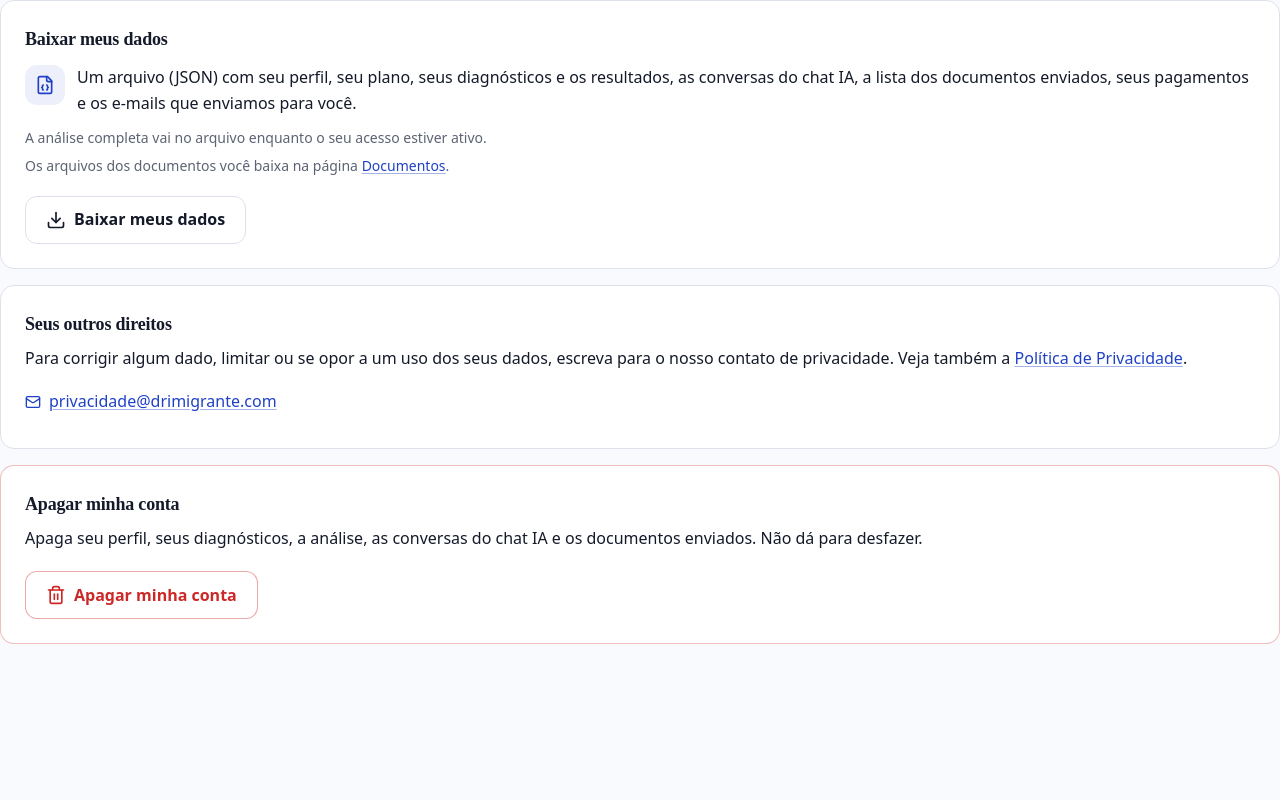
Test: PrivacyPanel — apagar a conta › erro do servidor aparece no sheet e nada de sair da conta
The width and height of the screenshot is (1280, 800).
Click the button with test id "privacy-delete-open" at (141,595), box 25,571 -> 258,619
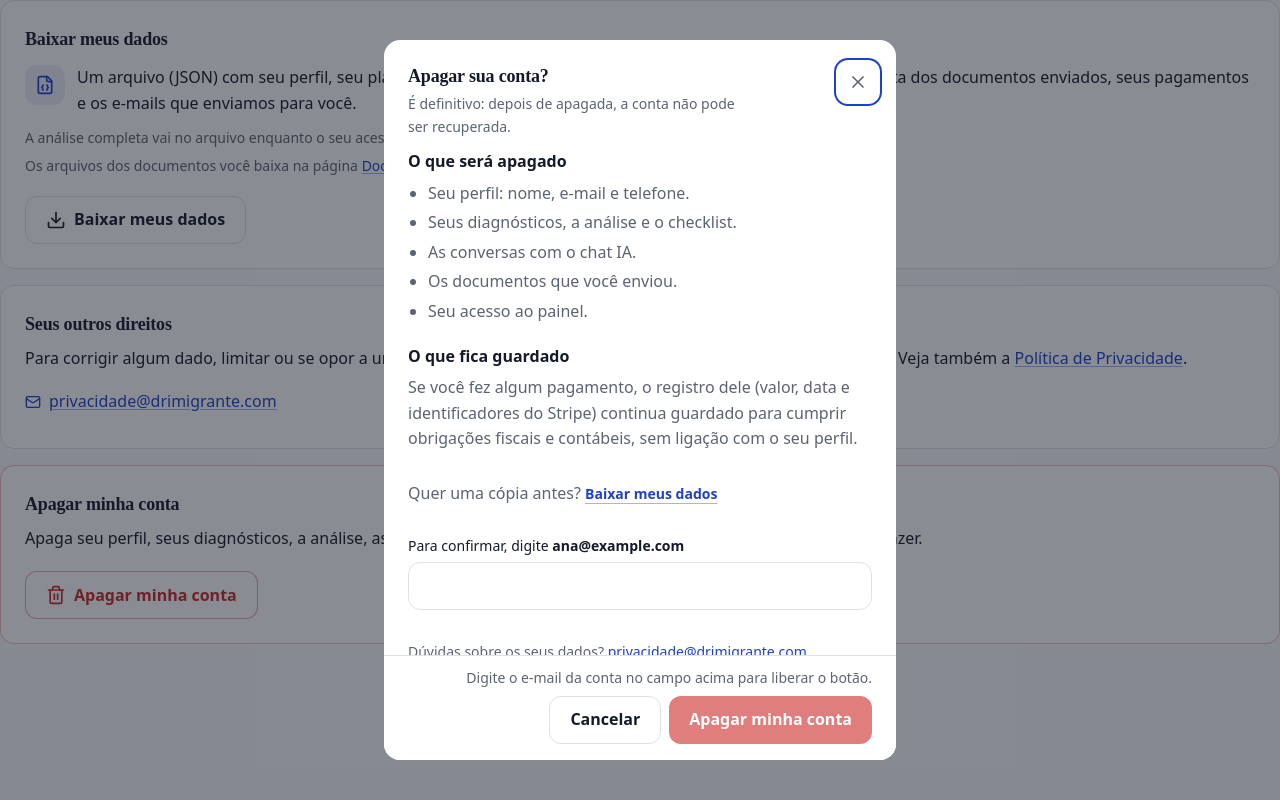
Type "ana@example.com" into the field with test id "delete-account-email" at (640,586), box 408,562 -> 872,610
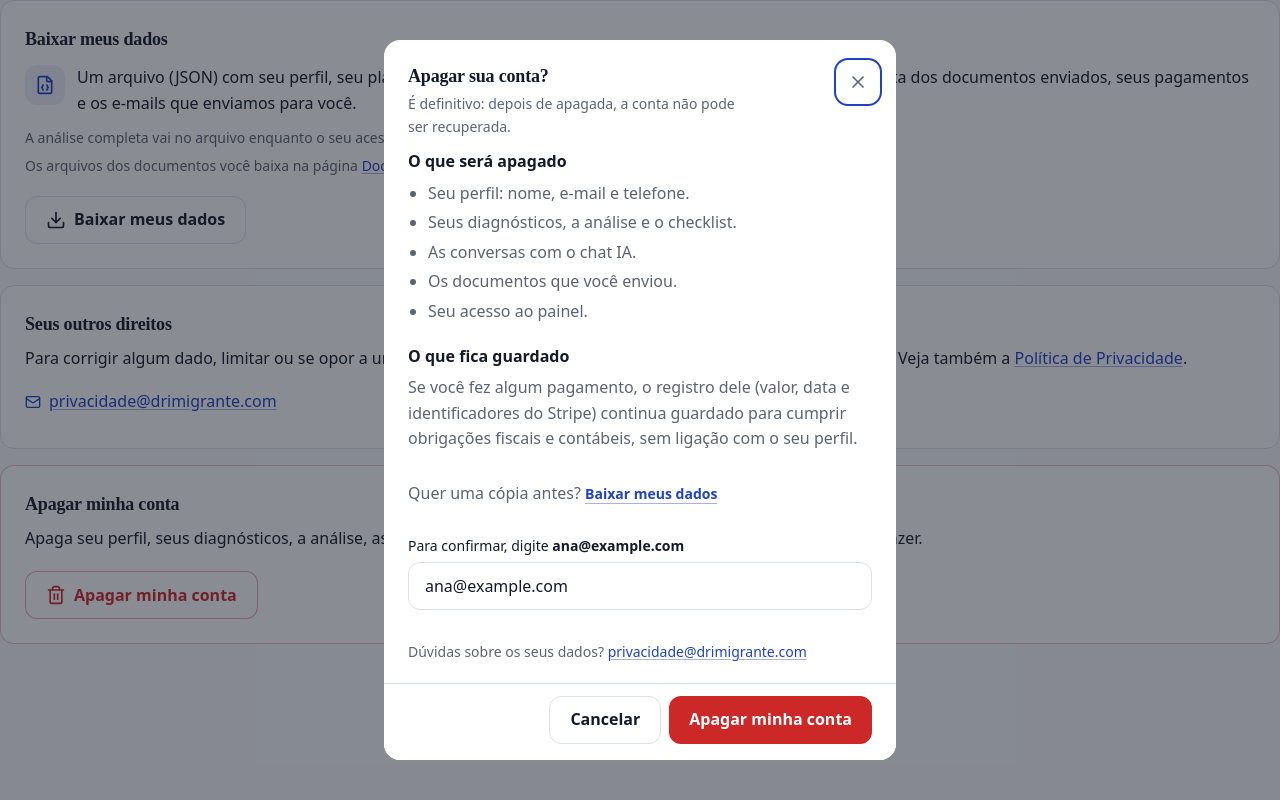
Click the button with test id "delete-account-confirm" at (771,720), box 669,696 -> 872,744
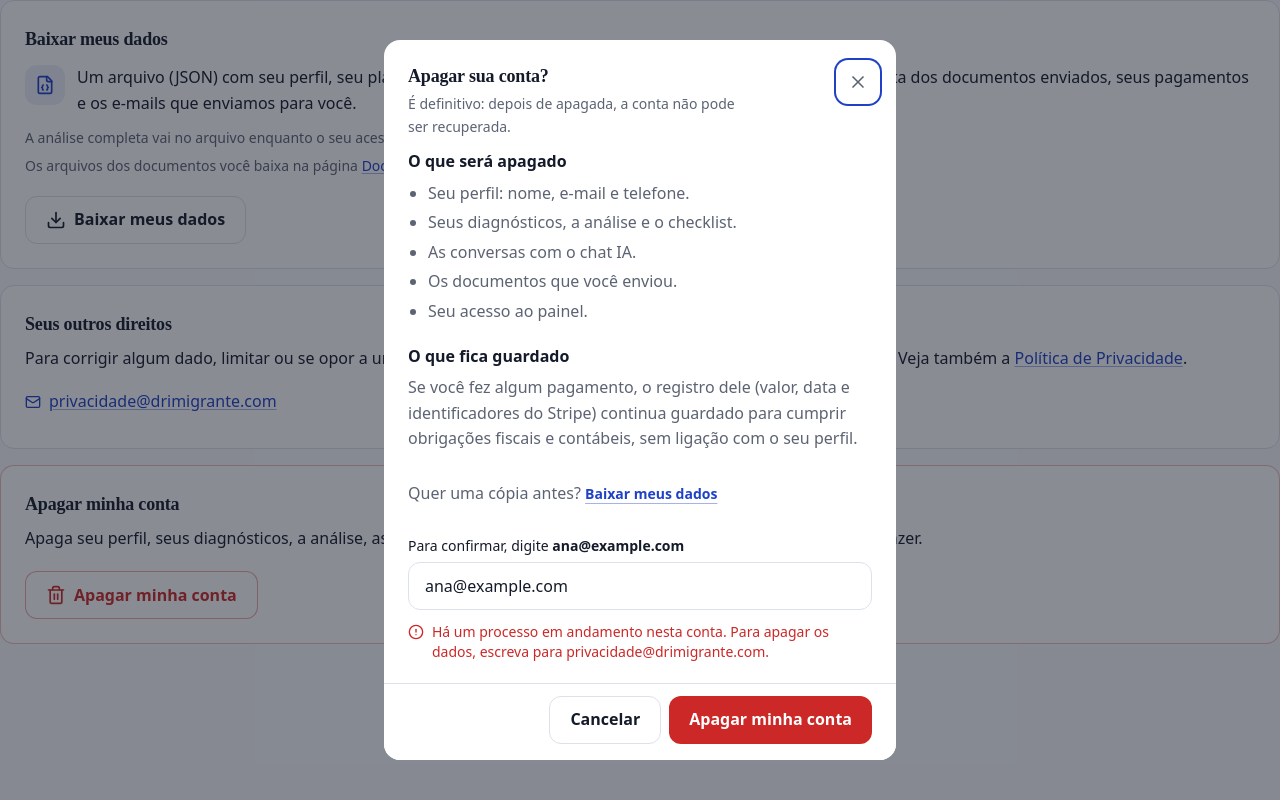
Now the message with test id "delete-account-error" shows "processo em andamento", box 432,622 -> 829,661
